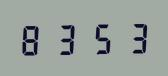eight: (18, 21, 50, 56)
five: (84, 19, 116, 55)
three: (51, 20, 83, 56), (117, 19, 149, 54)
